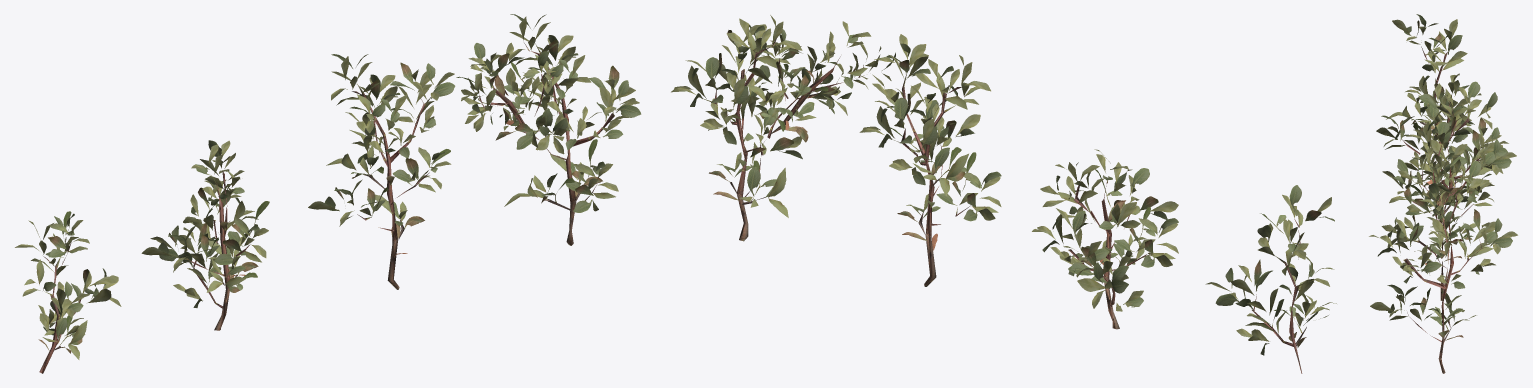
File: shrub_04.glb
3 views of the same model, side by side, from view 1: azimuth 30°, elevation 25°; view 2: azimuth 150°, elevation 25°; view 3: azimuth 270°, elevation 25° (orthographic). The views are drawn at different scales.
Visible parts, largest first — view 1: plant_0; view 2: plant_0; view 3: plant_0.
Boxes of the visible parts, x1,y1,x2,y2 form: plant_0: (15,14,641,373); plant_0: (671,15,1336,373); plant_0: (1369,14,1517,373).
Size of the model in its own units: 0.5837 by 0.2192 by 0.1461.
1 material, 1 textured.
